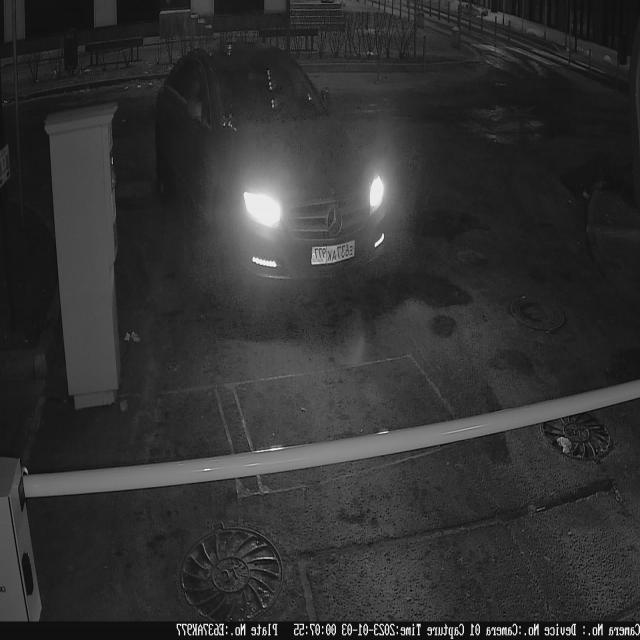car-plate-numbers: (311, 236, 361, 273)
